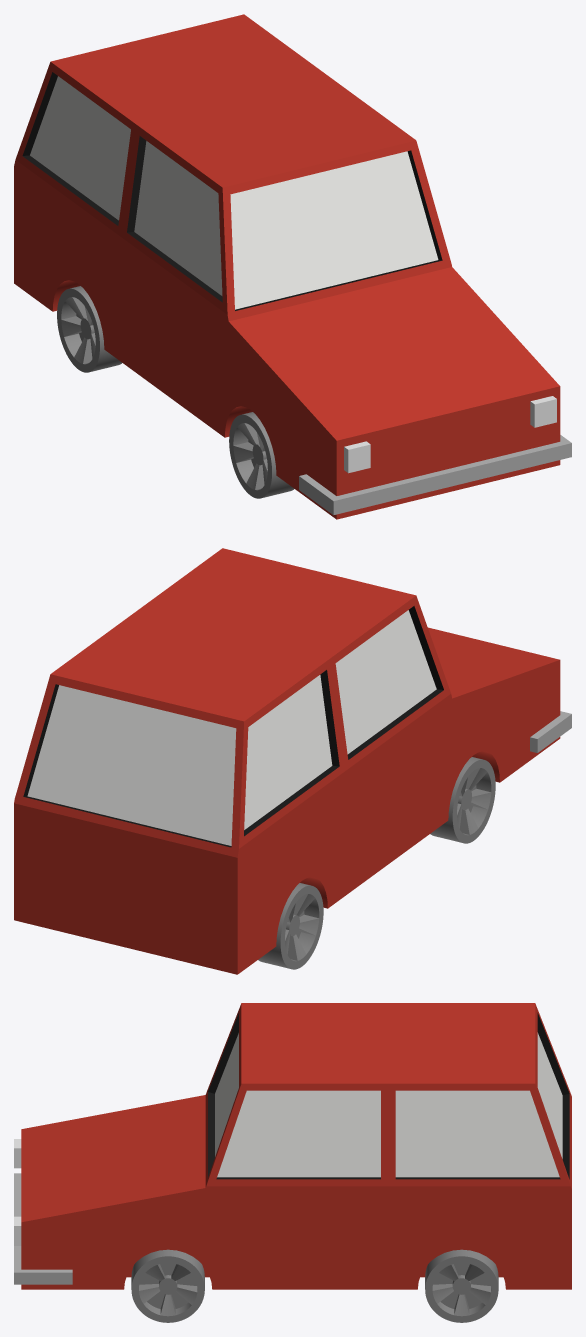
Rendered from FirstCar_v9.fbx.
The picture shows the model from 3 angles, top to bottom: view 1: azimuth 30°, elevation 25°; view 2: azimuth 150°, elevation 25°; view 3: azimuth 270°, elevation 25°; orthographic projection. The views are drawn at different scales.
Parts seen in each view (by area): view 1: Body1 (×5); view 2: Body1 (×3); view 3: Body1 (×3).
Part boxes in pixels (x1,y1,x2,y2): Body1 (×5): (14, 14, 571, 519); Body1 (×3): (14, 548, 571, 974); Body1 (×3): (14, 1003, 571, 1322).
Size of the model in its own units: 32 by 35 by 76.
